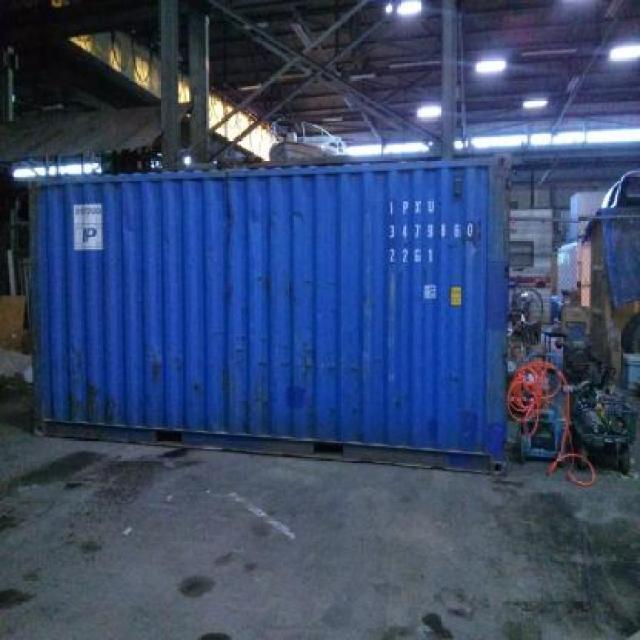Rust: (86, 382, 97, 422), (152, 354, 160, 381), (105, 409, 114, 425), (68, 397, 82, 406), (106, 397, 114, 405), (266, 274, 269, 289), (194, 383, 198, 389), (290, 285, 293, 292)
